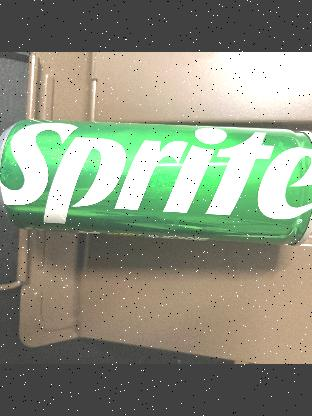Can: (0, 118, 312, 247)
